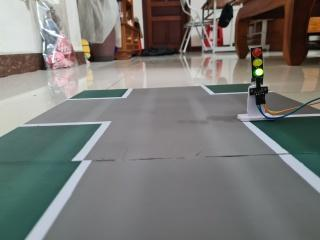green: (246, 43, 269, 88)
